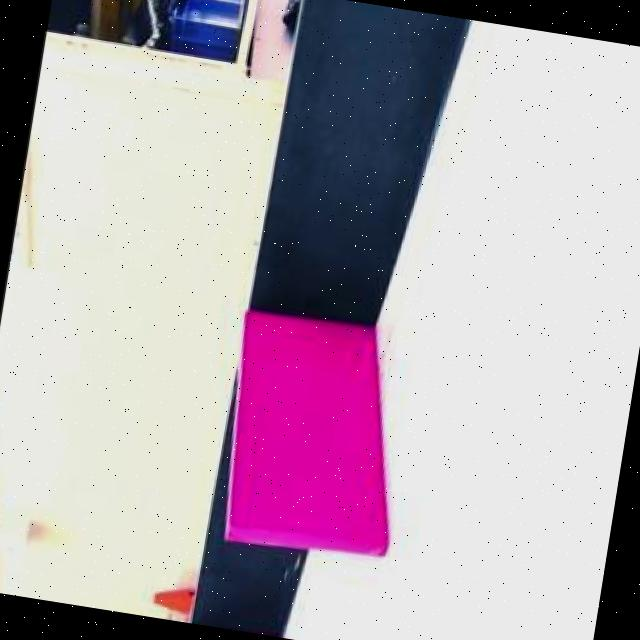xparking: (226, 313, 388, 562)
